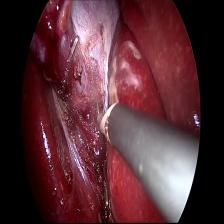Hook: (90, 93, 123, 144)
